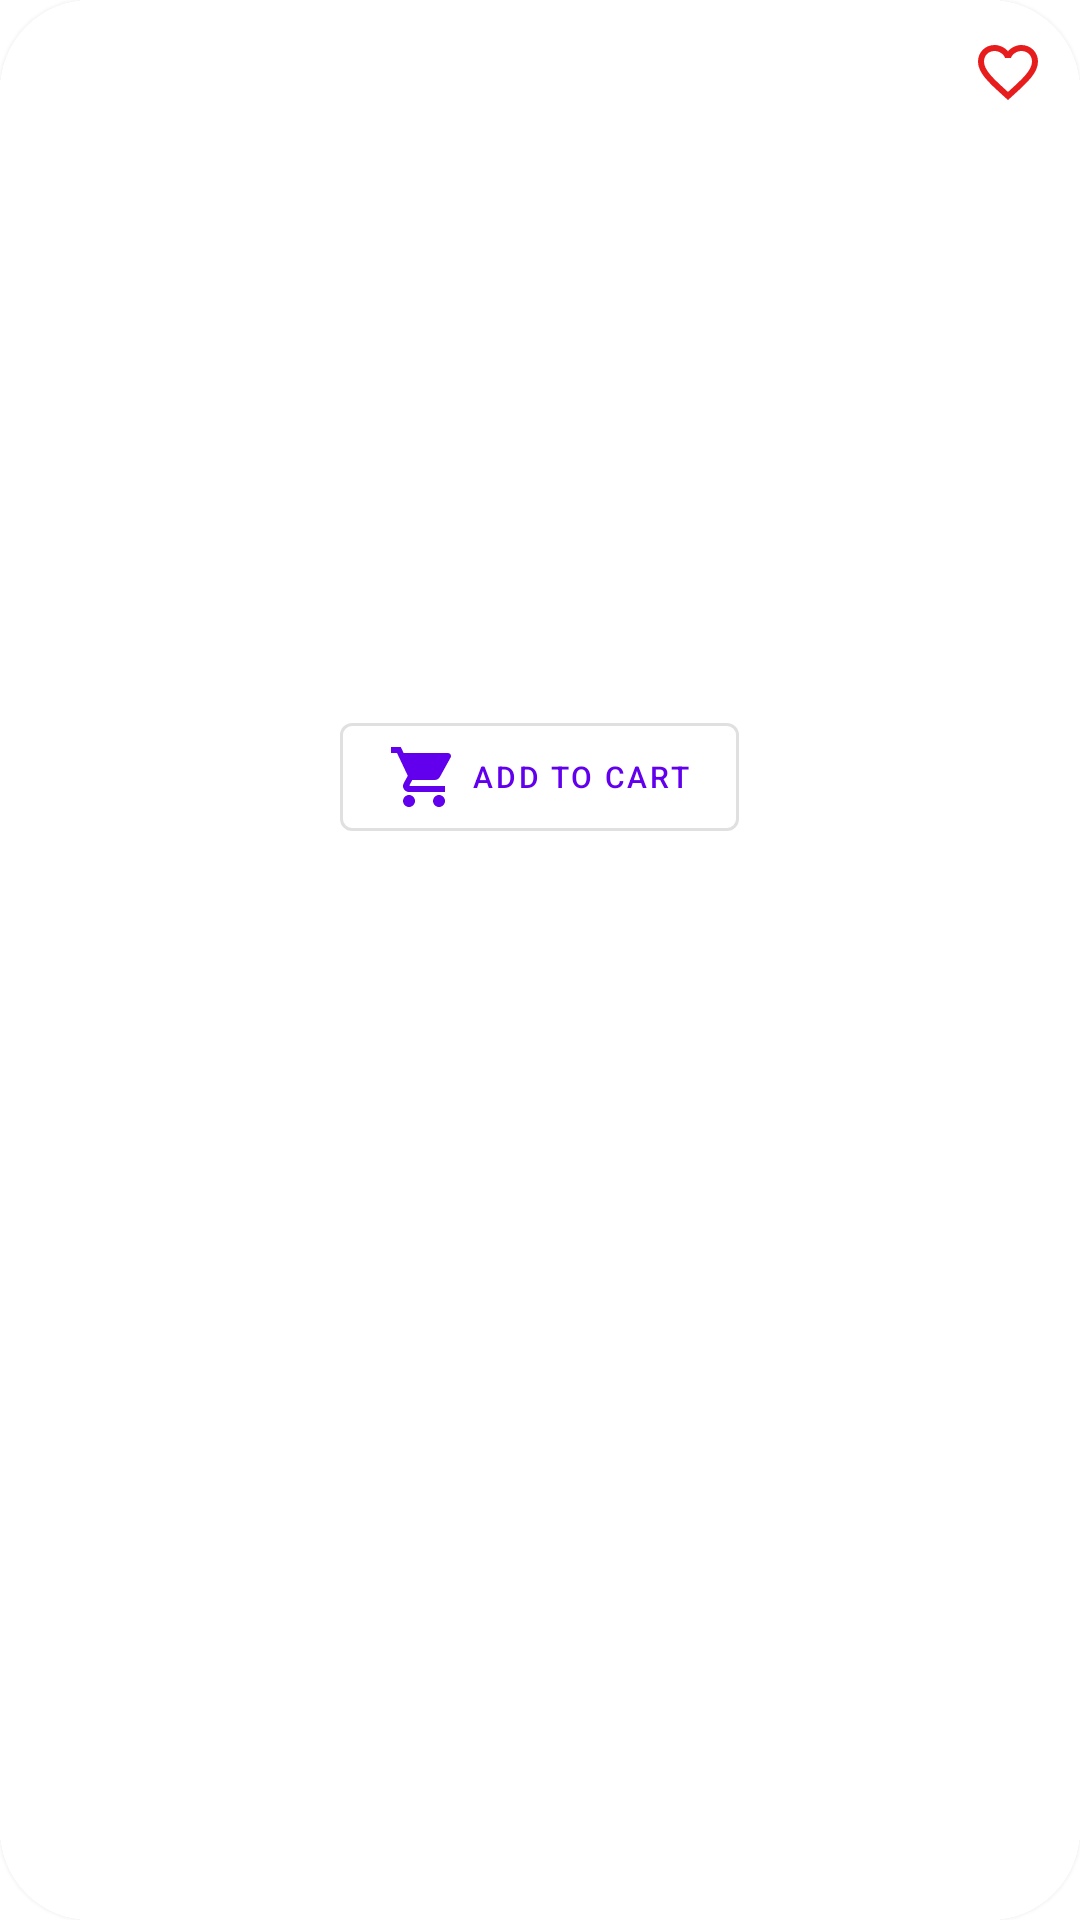

Point at icon controls on the screen. Image size 1080x1920, points as (x,y).
Favorite: (1008,72)
